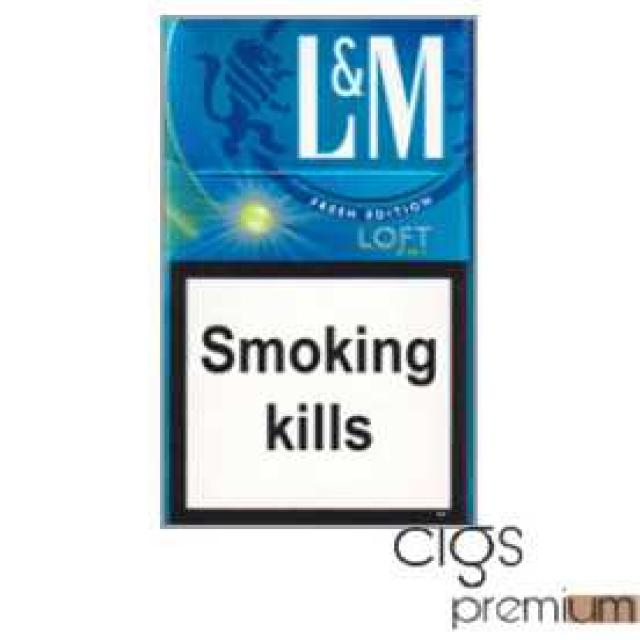lm: (138, 12, 473, 524)
